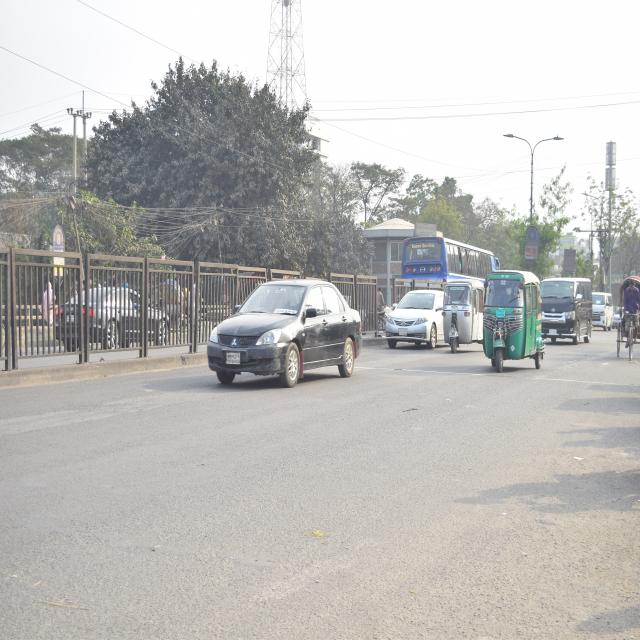bus: (400, 226, 497, 290)
car: (202, 272, 366, 386), (39, 271, 175, 363), (378, 290, 446, 347)
microbus: (538, 268, 593, 346), (592, 280, 613, 332)
